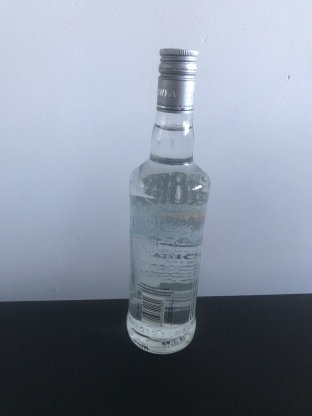nakretka: (154, 44, 200, 115)
